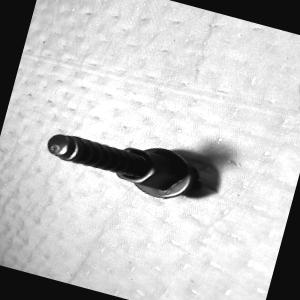parafuso: (39, 118, 202, 206)
